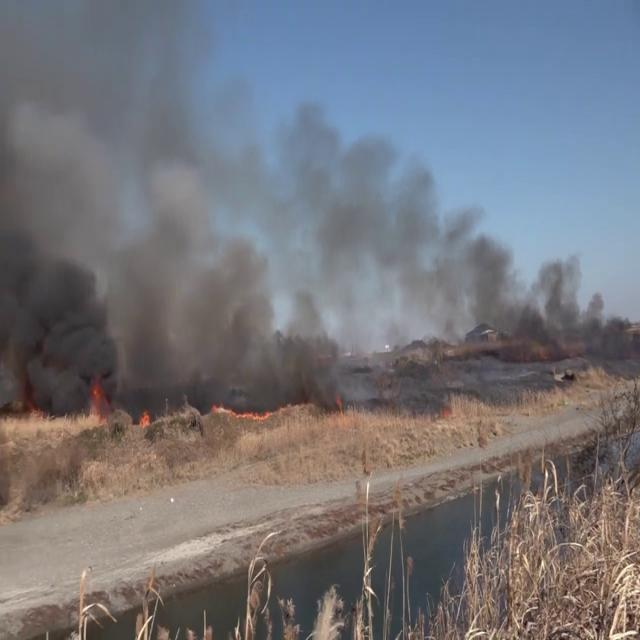Fire: (84, 368, 110, 432), (137, 399, 153, 431)
Smoke: (21, 87, 630, 401)
